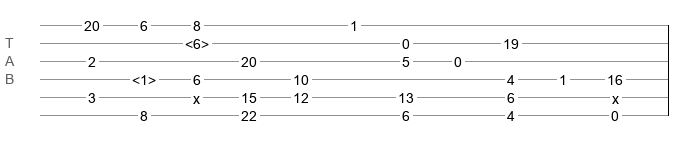0: (402, 36, 410, 46), (454, 54, 462, 64), (611, 108, 619, 118)
1: (350, 18, 358, 28), (559, 72, 567, 82)
10: (293, 72, 309, 82)
12: (293, 90, 309, 100)
13: (398, 90, 414, 100)
15: (241, 90, 257, 100)
16: (607, 72, 623, 82)
19: (503, 36, 519, 46)
2: (88, 54, 96, 64)
20: (84, 18, 100, 28), (241, 54, 257, 64)
22: (241, 108, 257, 118)
3: (88, 90, 96, 100)
4: (507, 108, 515, 118), (507, 72, 515, 82)
5: (402, 54, 410, 64)
6: (140, 18, 148, 28), (193, 72, 201, 82), (402, 108, 410, 118), (507, 90, 515, 100)
8: (140, 108, 148, 118), (193, 18, 201, 28)
harmonic: (132, 72, 156, 82), (185, 36, 209, 46)
x: (193, 91, 200, 99), (612, 91, 619, 99)
